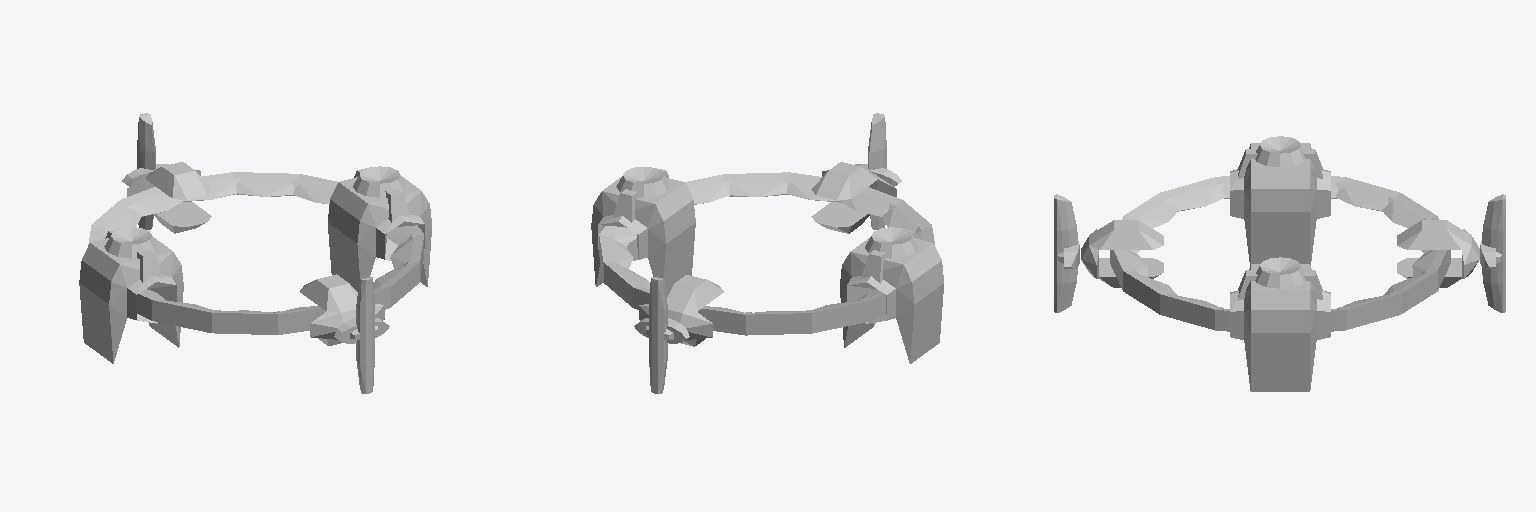
File: stg300_MotGate_p1_16.obj
The picture shows the model from 3 angles: view 1: azimuth 30°, elevation 25°; view 2: azimuth 150°, elevation 25°; view 3: azimuth 270°, elevation 25°; orthographic projection.
Visible parts, largest first — view 1: polygon0, polygon6, polygon7, polygon2, polygon1, polygon5, polygon3; view 2: polygon0, polygon6, polygon7, polygon4, polygon1, polygon3, polygon5; view 3: polygon0, polygon6, polygon7, polygon3, polygon5, polygon1, polygon2, polygon4.
Part boxes in pixels (x1,y1,x2,y2): polygon0: (79,167,431,363); polygon6: (88,172,423,334); polygon7: (100,180,412,312); polygon2: (334,277,389,393); polygon1: (111,162,399,287); polygon5: (136,117,163,229); polygon3: (345,279,377,392); polygon0: (591,167,943,363); polygon6: (599,172,934,335); polygon7: (610,180,922,312); polygon4: (634,277,689,393); polygon1: (623,162,911,288); polygon3: (860,117,887,229); polygon5: (646,279,678,392); polygon0: (1081,143,1479,391); polygon6: (1110,176,1450,331); polygon7: (1123,183,1437,308); polygon3: (1057,200,1079,312); polygon5: (1480,200,1502,312); polygon1: (1114,136,1446,274); polygon2: (1054,194,1077,312); polygon4: (1482,194,1505,312).
Bounding box in the file's own units: 199 × 69.79 × 241.